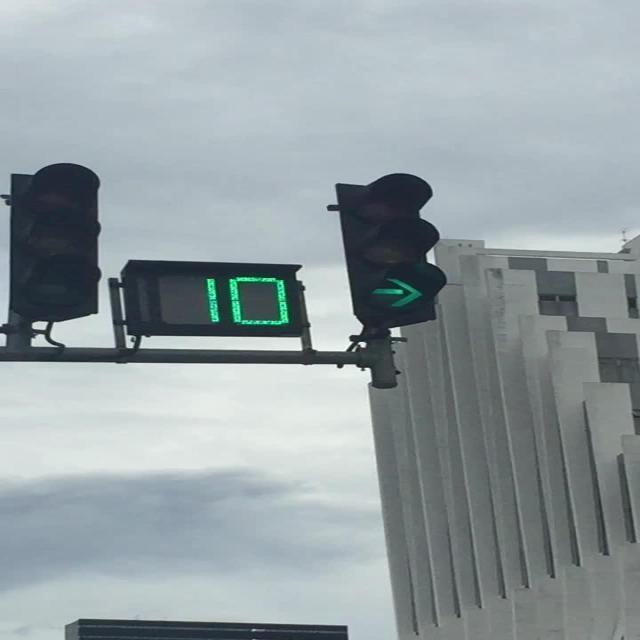green_light: (342, 178, 446, 326)
